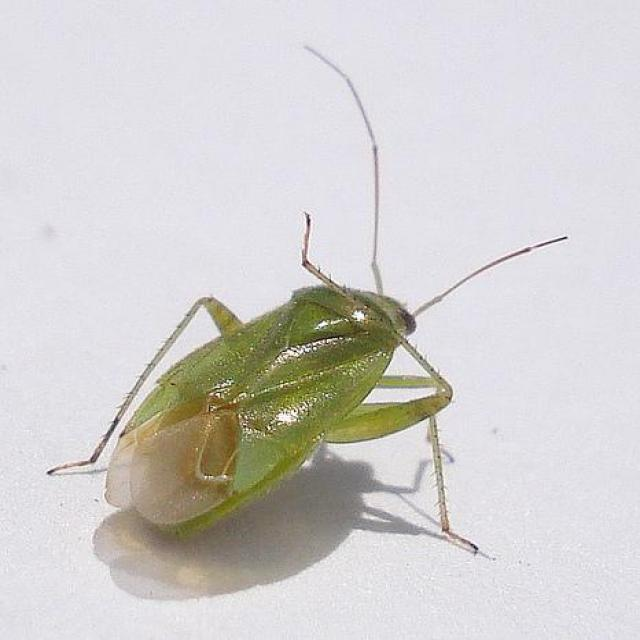Miridae-Adult-: (87, 33, 554, 580)
